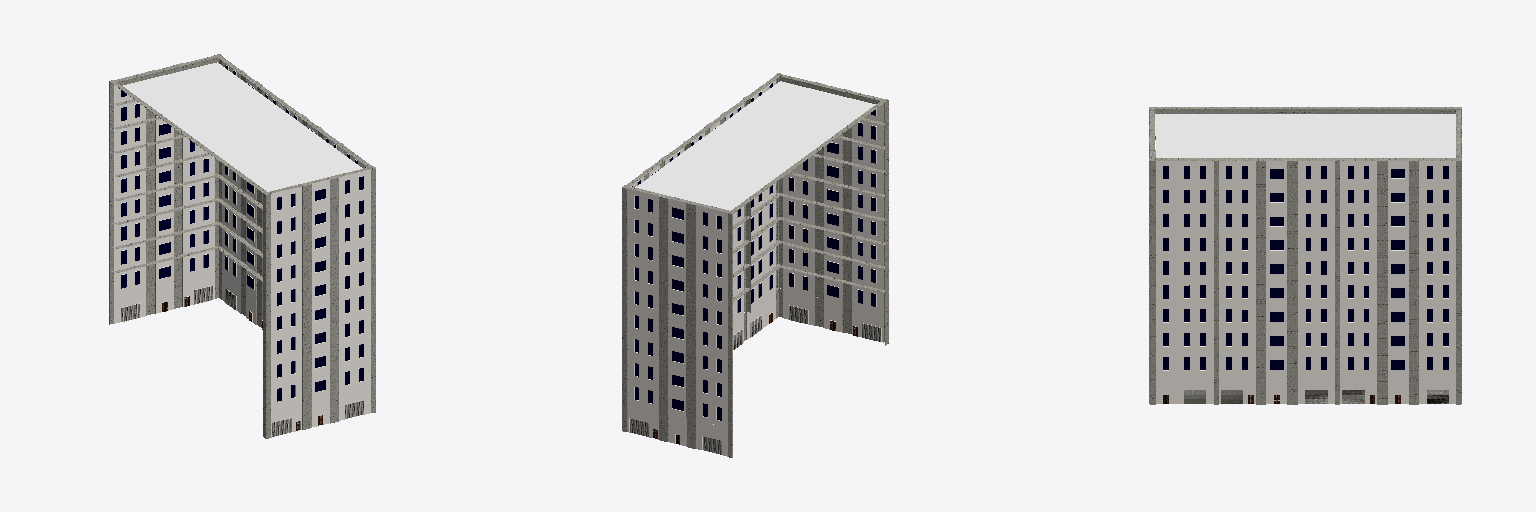
The picture shows the model from 3 angles: view 1: azimuth 30°, elevation 25°; view 2: azimuth 150°, elevation 25°; view 3: azimuth 270°, elevation 25°; orthographic projection.
Parts seen in each view (by area): view 1: LongBuilding1; view 2: LongBuilding1; view 3: LongBuilding1.
Boxes of the visible parts, x1,y1,x2,y2 form: LongBuilding1: [109, 54, 375, 438]; LongBuilding1: [622, 73, 888, 457]; LongBuilding1: [1149, 107, 1461, 404].
Bounding box in the file's own units: 24.25 × 51 × 69.18.
Materials: 7 (3 with a texture image).